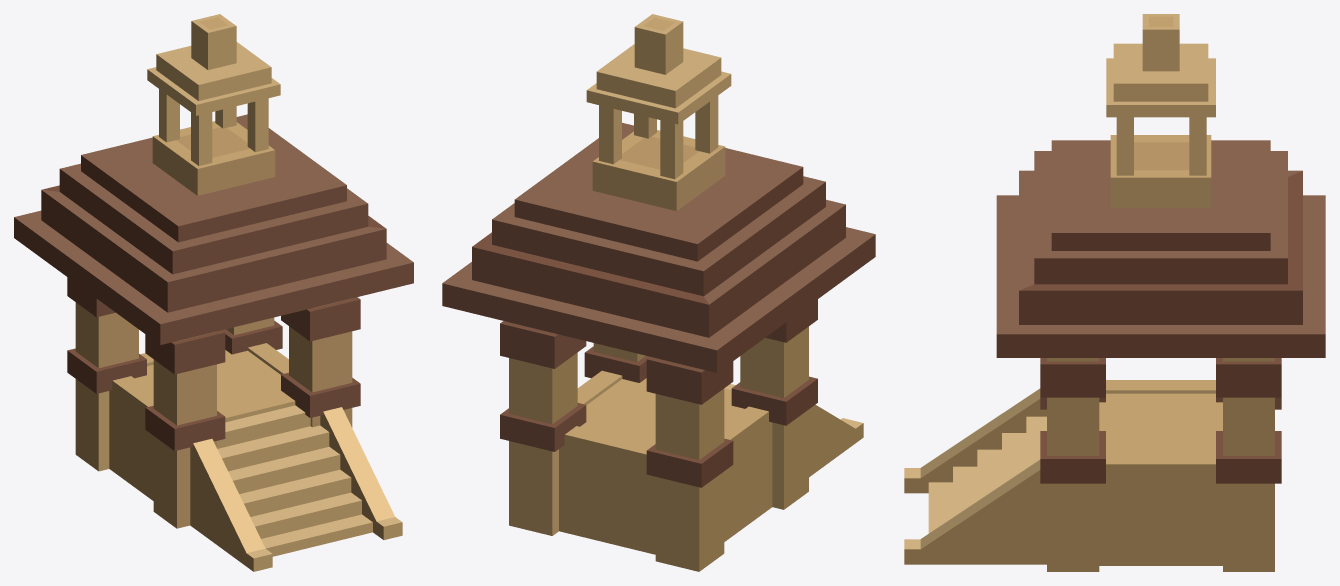
Rendered from ST_Env_Structure_04.fbx.
The picture shows the model from 3 angles, left to right: view 1: azimuth 30°, elevation 25°; view 2: azimuth 150°, elevation 25°; view 3: azimuth 270°, elevation 25°; orthographic projection. The views are drawn at different scales.
Parts seen in each view (by area): view 1: ST_Env_Structure_04; view 2: ST_Env_Structure_04; view 3: ST_Env_Structure_04.
Part boxes in pixels (<box>): ST_Env_Structure_04: <box>14,14,413,571</box>; ST_Env_Structure_04: <box>442,14,875,571</box>; ST_Env_Structure_04: <box>904,14,1325,571</box>.
Bounding box in the file's own units: 11.82 × 19.9 × 15.13.
